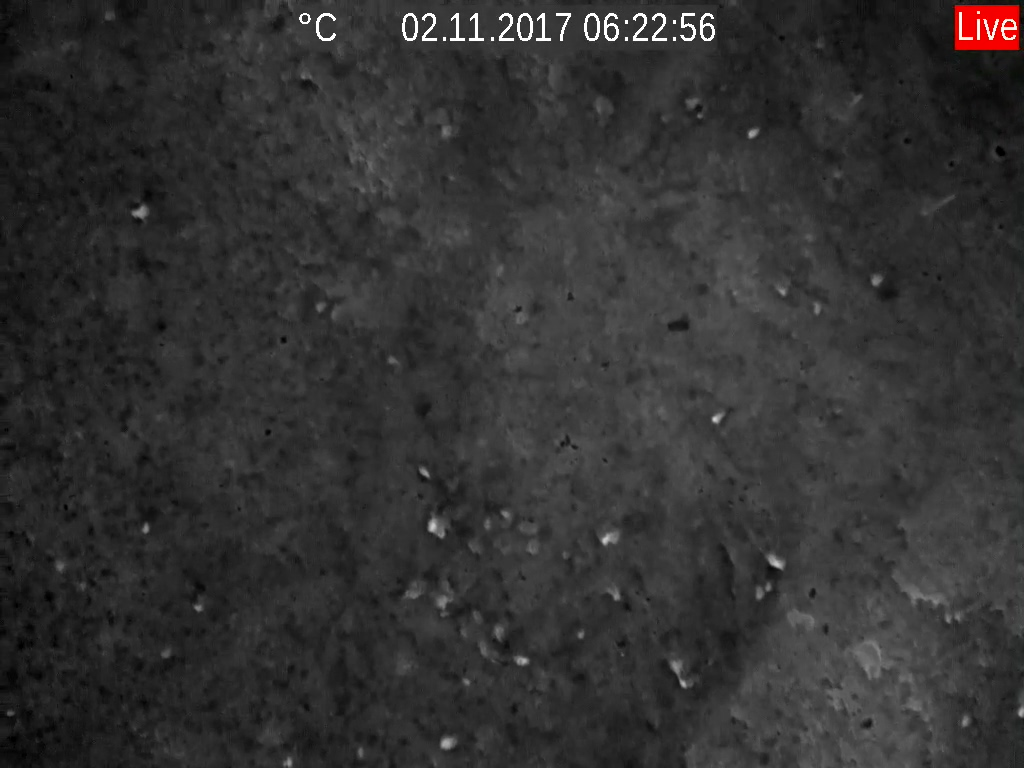warren: (705, 401, 730, 425), (866, 267, 888, 290), (414, 463, 438, 484), (745, 127, 763, 143)
